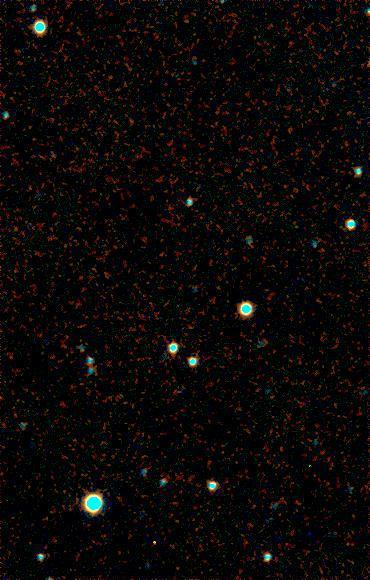star: (142, 530, 172, 560)
